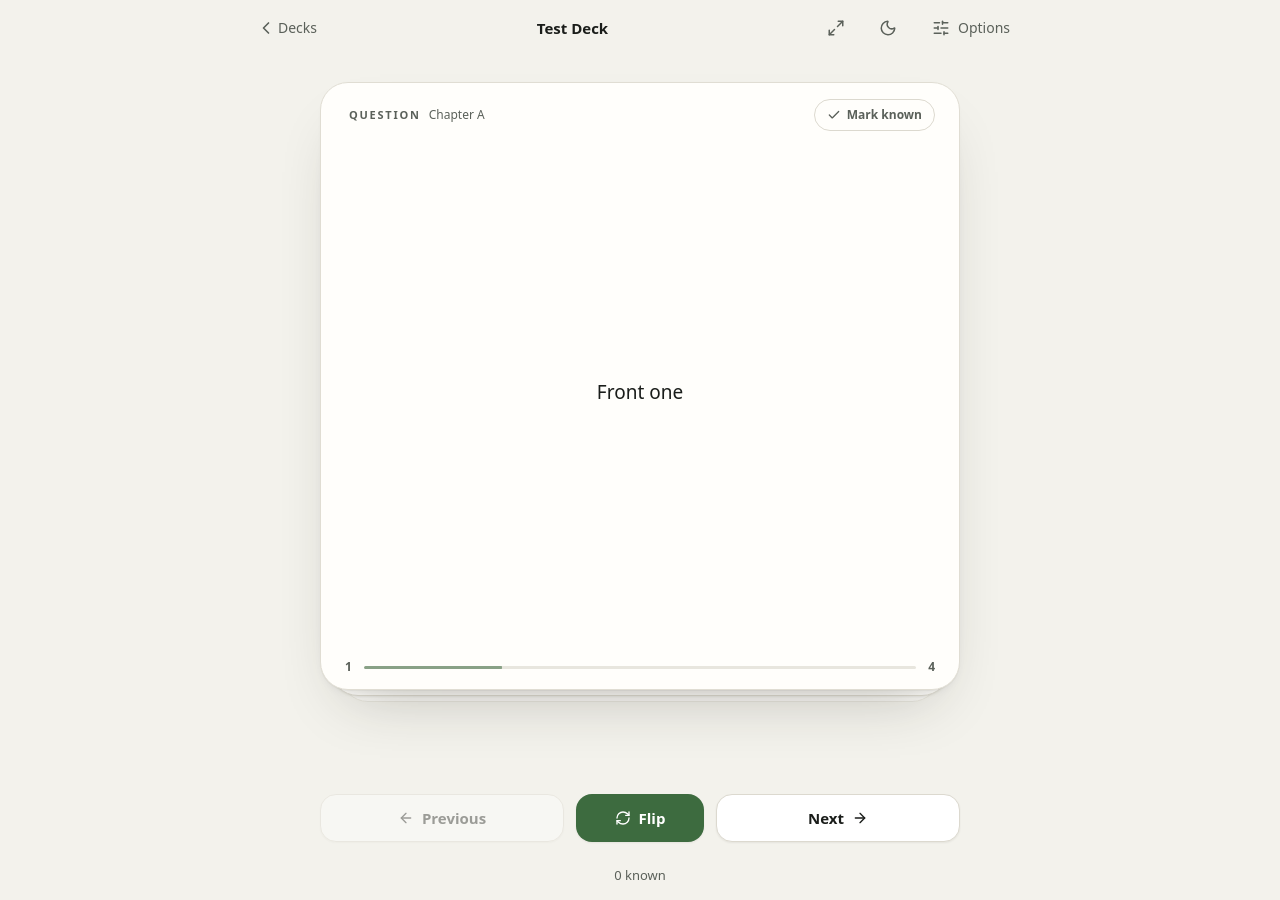
Test case: shuffle and restart › actually reorders the cards
Click the button with aria-label "Study options" at [971, 28], box top-left (918, 6), bottom-right (1024, 50)
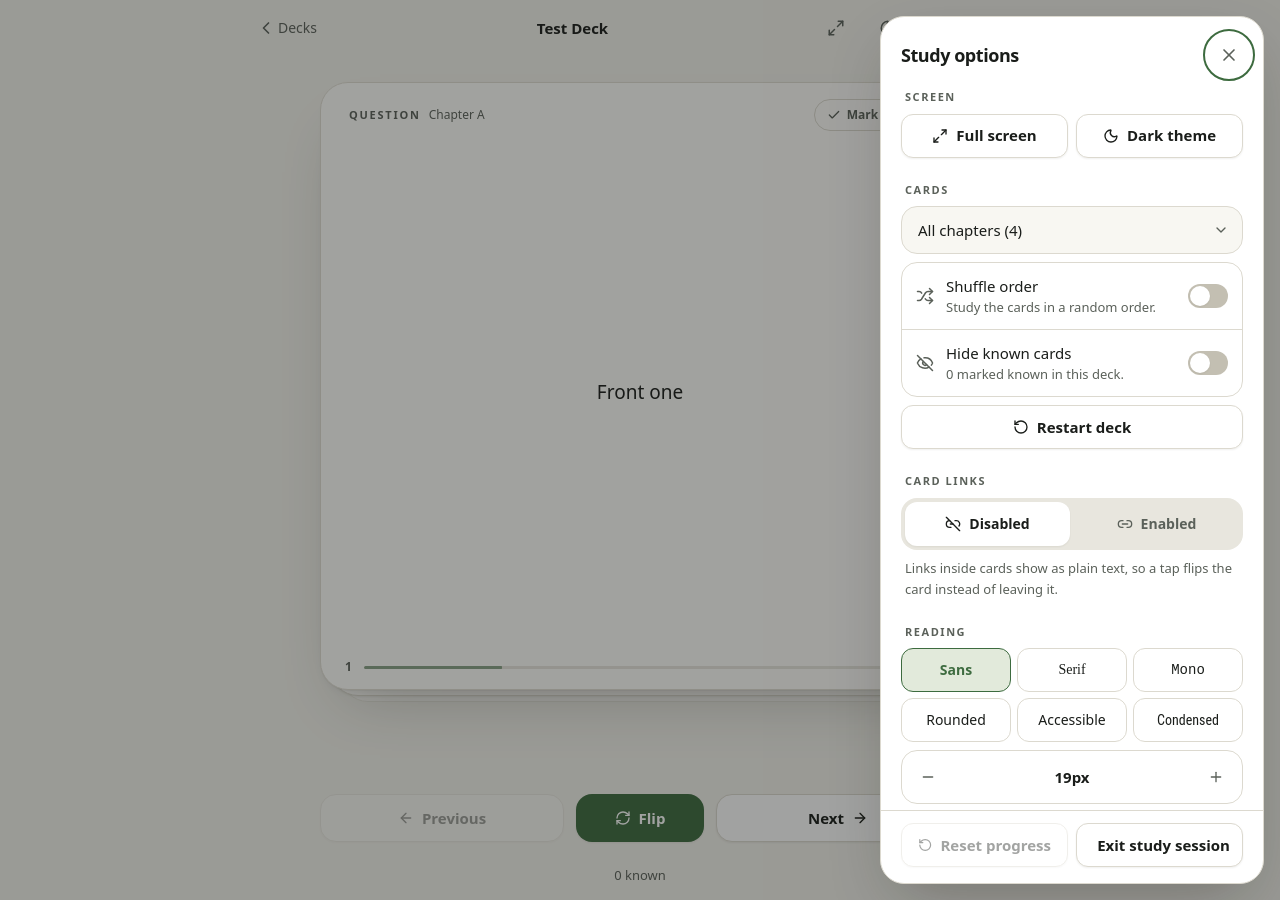
Click the switch labelled "Shuffle order" at [1072, 296], box top-left (902, 263), bottom-right (1242, 330)
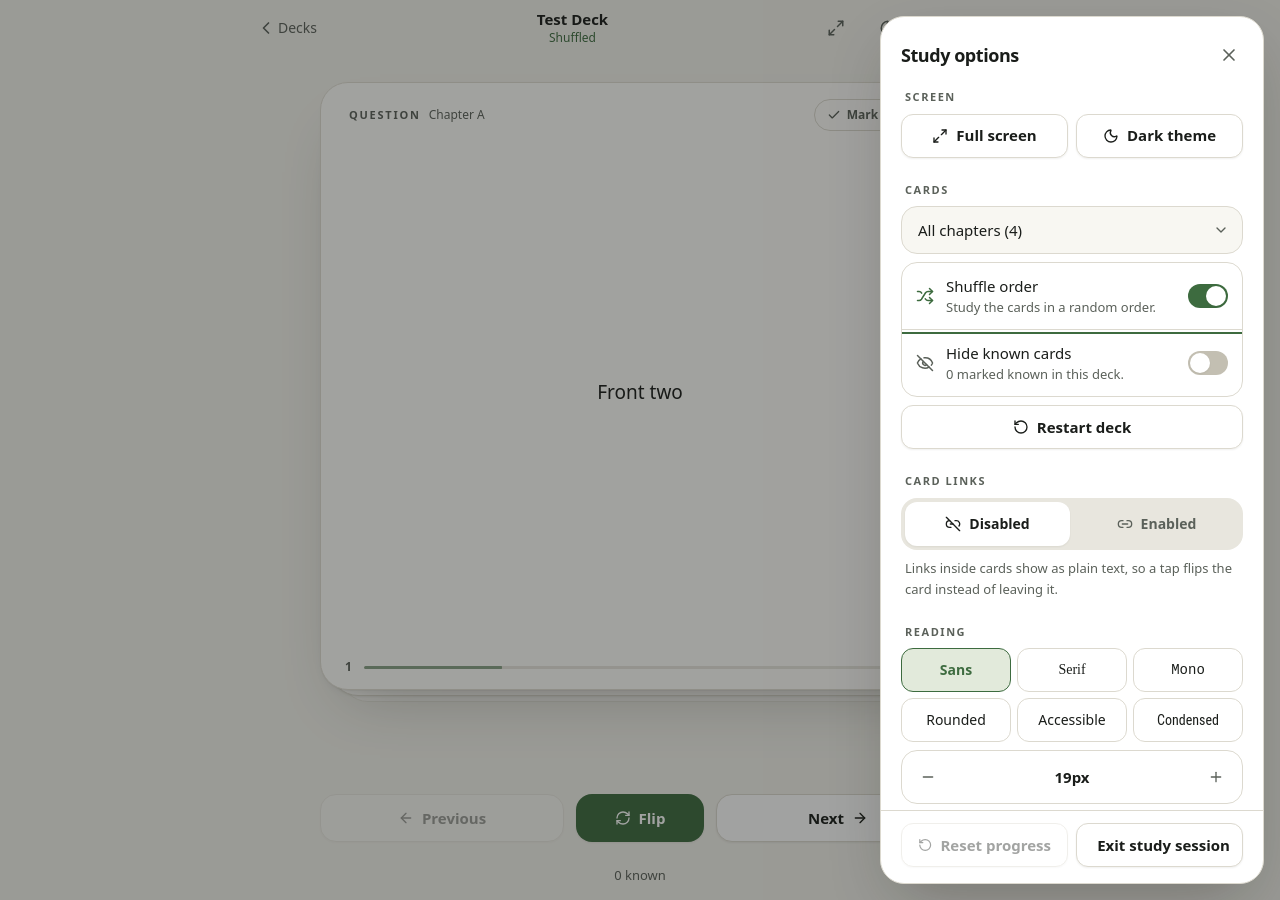
Expected: the number of elements with test id "card-flipper" is 1, top-left (320, 82), bottom-right (960, 690)
Expected: the text "Front one" is gone
